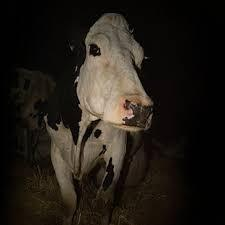cow: (44, 12, 154, 225)
